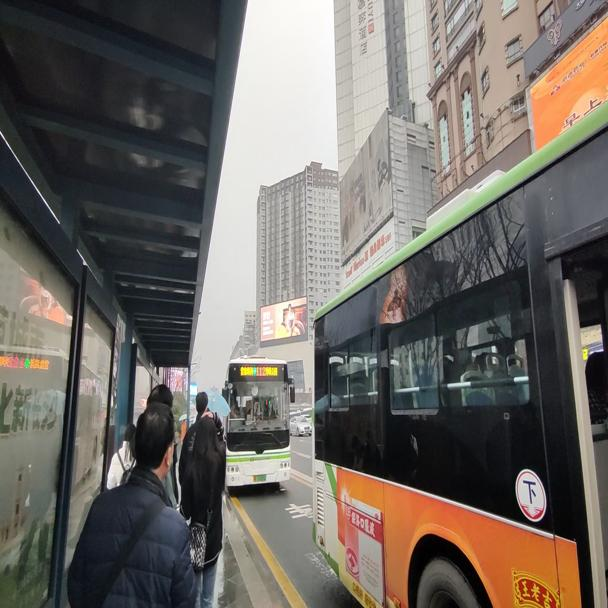bus: (311, 98, 608, 606), (221, 355, 295, 491)
screen: (255, 366, 266, 377)
